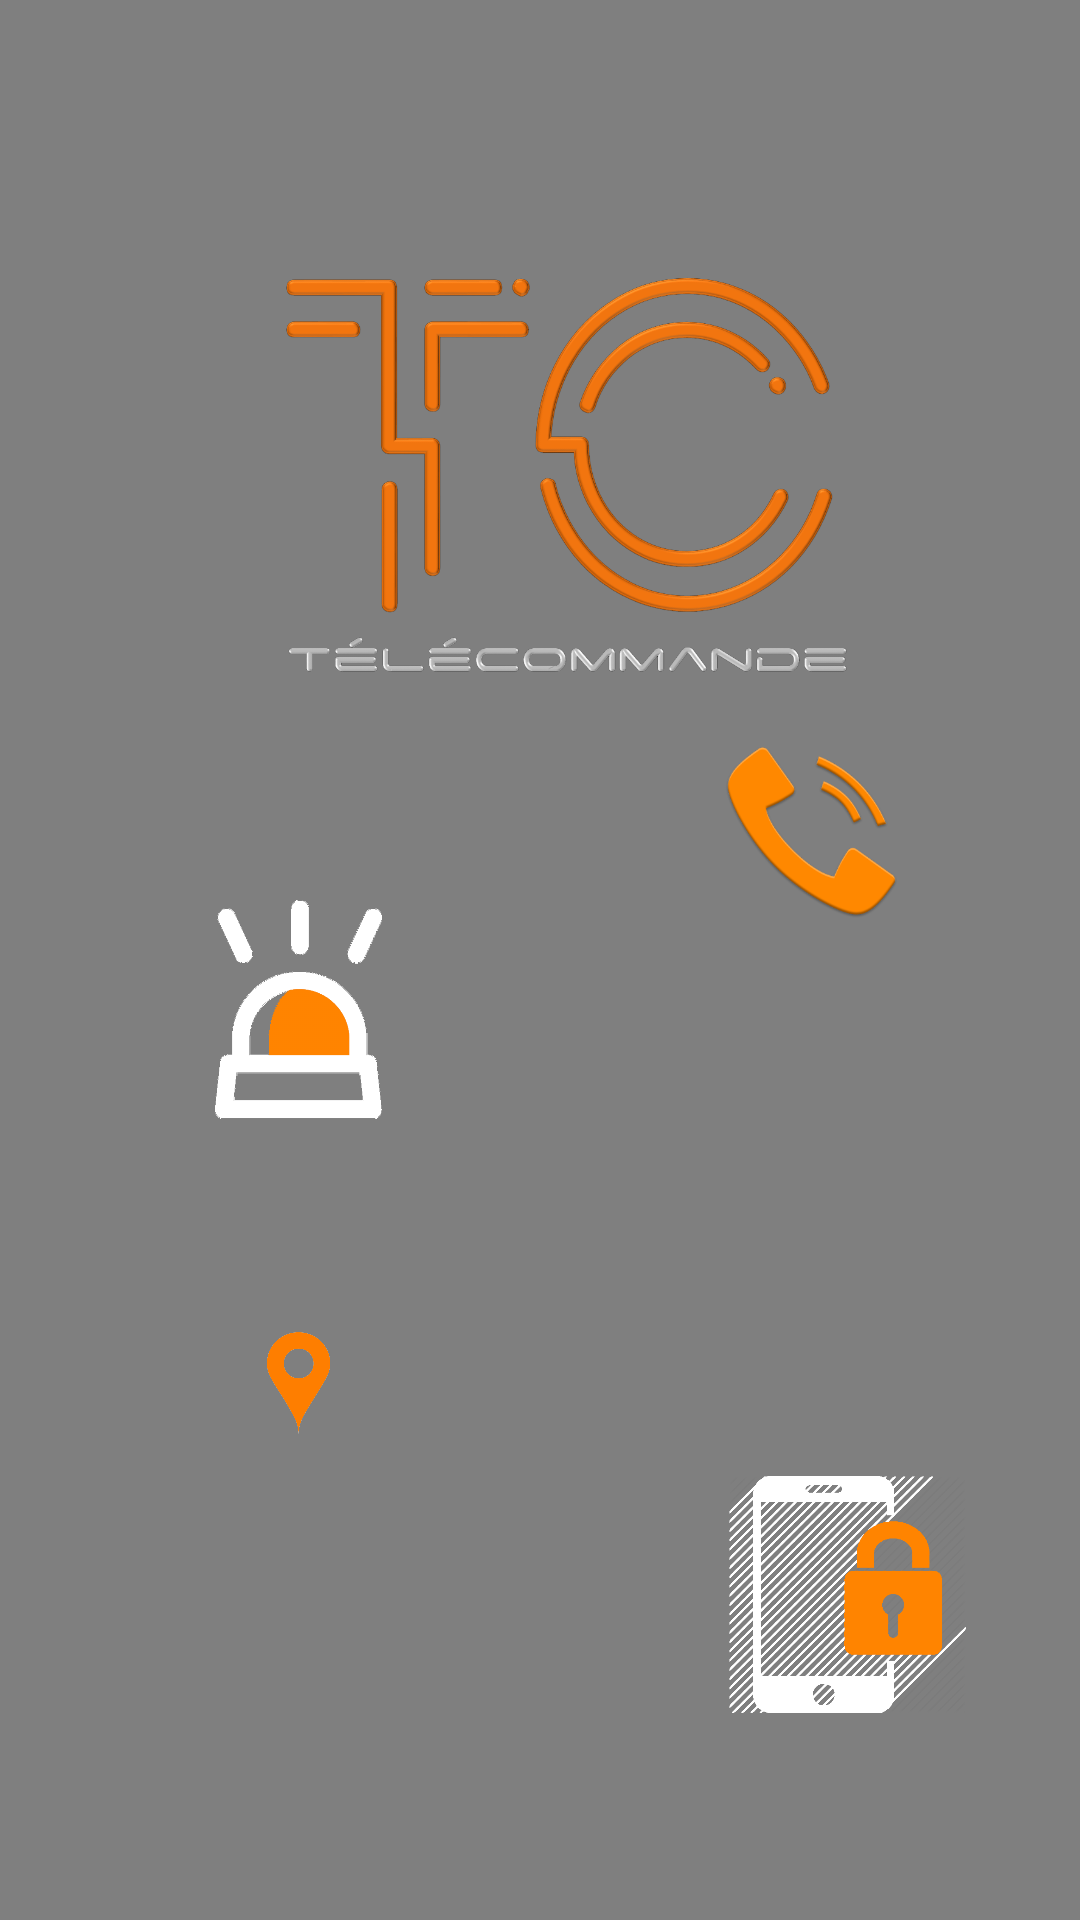

Icons on this 1080 x 1920 Android screen, each with its box as (x1,y1,x2,y2):
alarm: (215,900,382,1119)
callme: (728,747,895,915)
location: (267,1332,330,1433)
lock: (729,1476,966,1713)
